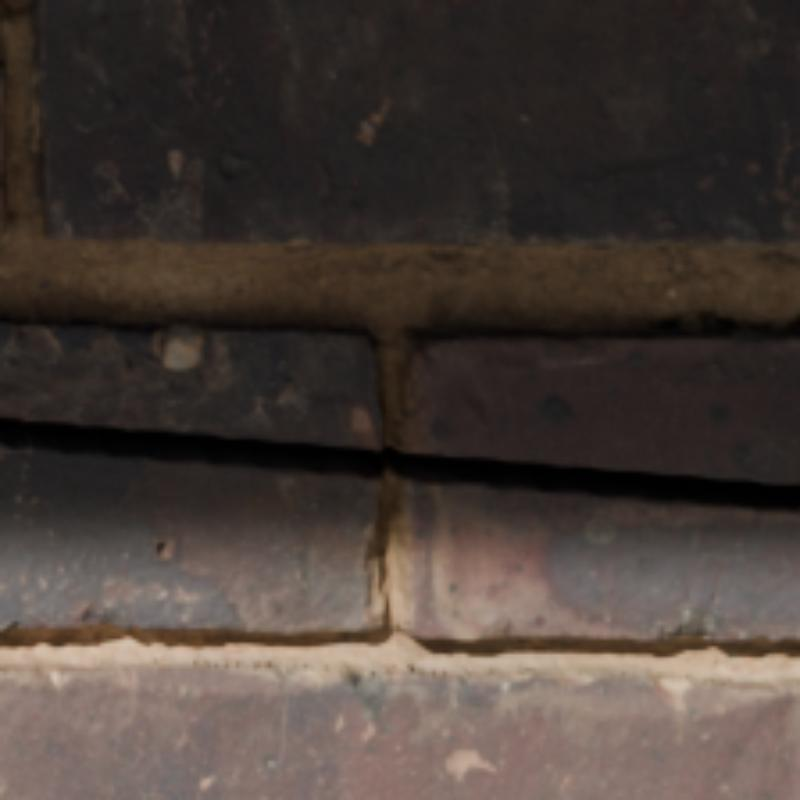crack: (0, 414, 796, 511)
